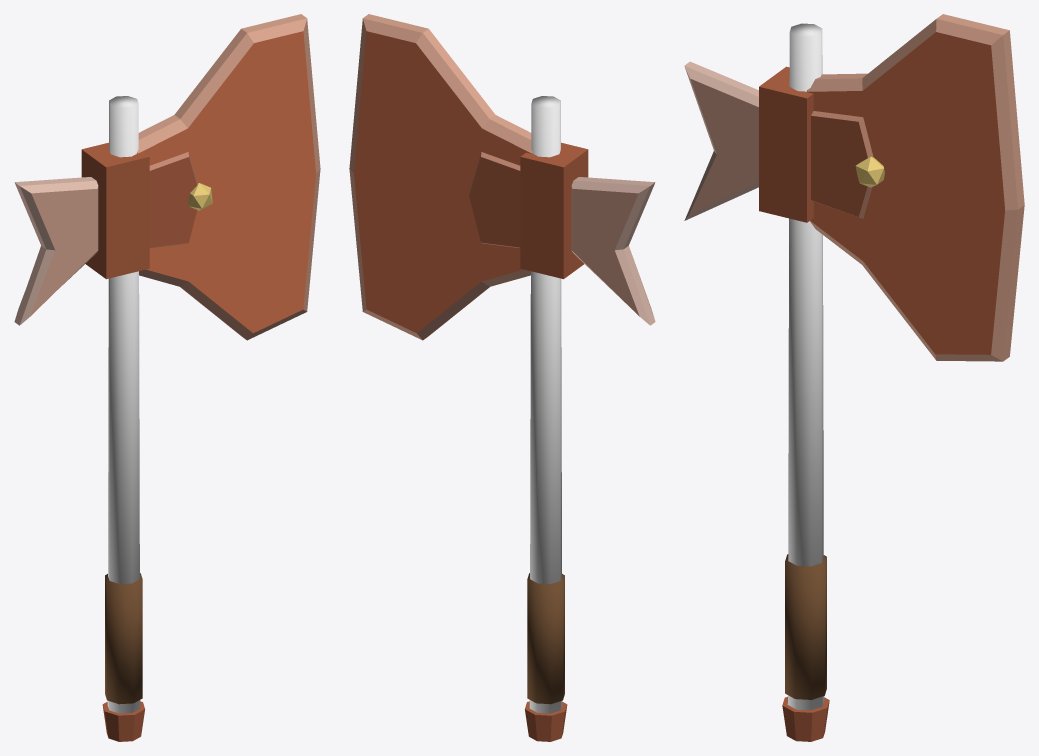
The model's file is palladium_axe.glb.
3 renders of one model, left to right at view 1: azimuth 30°, elevation 25°; view 2: azimuth 150°, elevation 25°; view 3: azimuth 330°, elevation 25°, orthographic. The views are drawn at different scales.
Visible parts, largest first — view 1: palladium_axe_v0; view 2: palladium_axe_v0; view 3: palladium_axe_v0.
Boxes of the visible parts, box(x1,y1,x2,y2) form: palladium_axe_v0: box(14, 14, 320, 741); palladium_axe_v0: box(349, 14, 655, 741); palladium_axe_v0: box(684, 14, 1024, 741).
Size of the model in its own units: 0.45 by 0.965 by 0.071.
